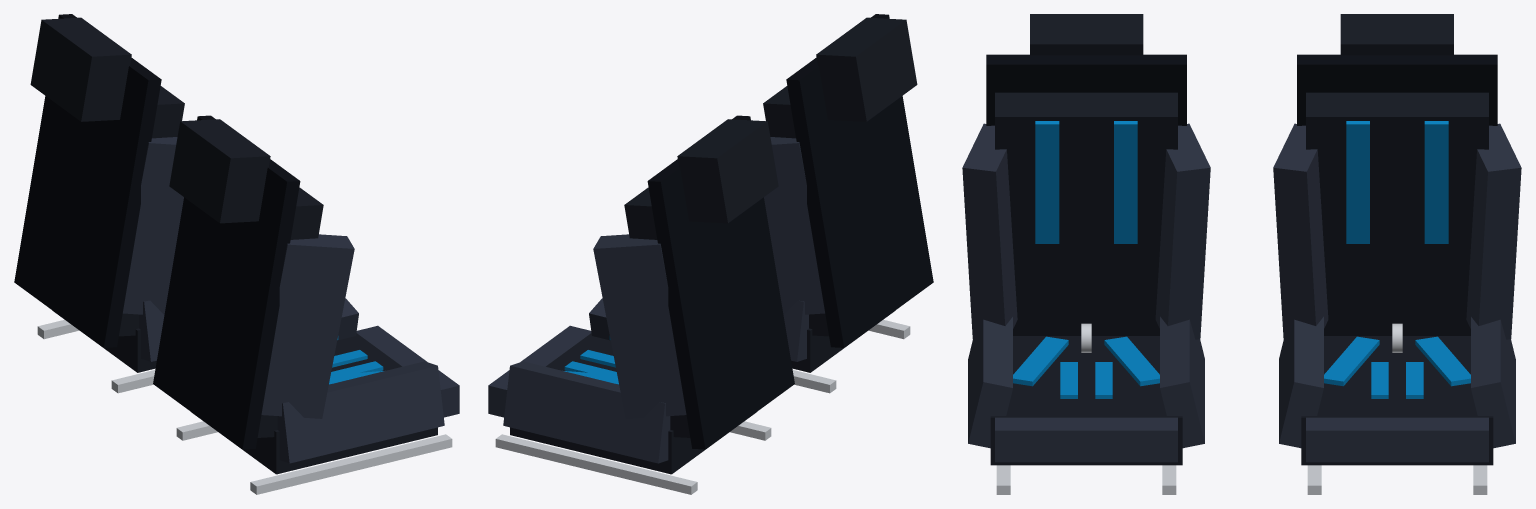
File: seat_carbon_race.glb
The picture shows the model from 3 angles, left to right: view 1: azimuth 30°, elevation 25°; view 2: azimuth 150°, elevation 25°; view 3: azimuth 270°, elevation 25°; orthographic projection. The views are drawn at different scales.
Visible parts, largest first — view 1: PassengerSeat, DriverSeat; view 2: DriverSeat, PassengerSeat; view 3: DriverSeat, PassengerSeat.
Boxes of the visible parts, <box> form: PassengerSeat: <box>153,115,459,494</box>; DriverSeat: <box>14,14,184,393</box>; DriverSeat: <box>488,115,794,494</box>; PassengerSeat: <box>763,14,933,393</box>; DriverSeat: <box>1273,14,1521,494</box>; PassengerSeat: <box>962,14,1210,494</box>.
Size of the model in its own units: 0.6651 by 0.9313 by 1.28.
